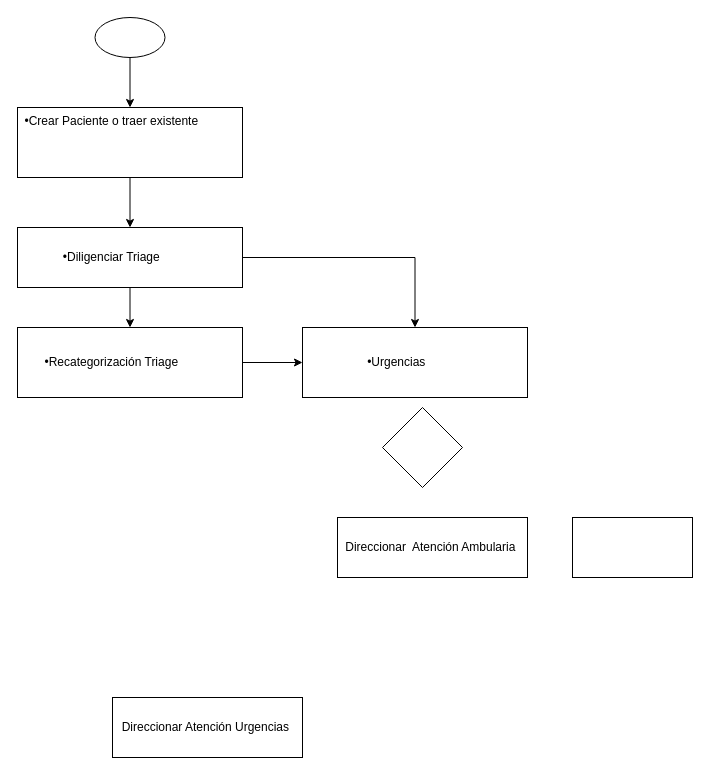
Image size: 710x775. Some labels were removed from this diagram. The shapes that lost their labels are listed below. From the top down, each one's centre as x and y in pixels, then its label:
[129,37]: INICIO
[632,547]: Direccionar
